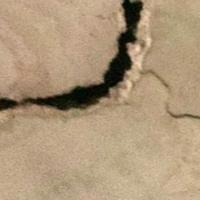crack: (3, 0, 146, 132)
